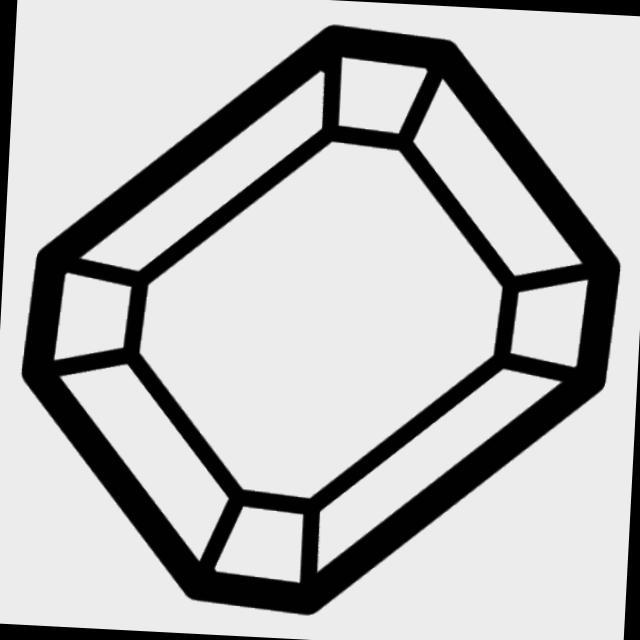emerald: (1, 1, 640, 639)
